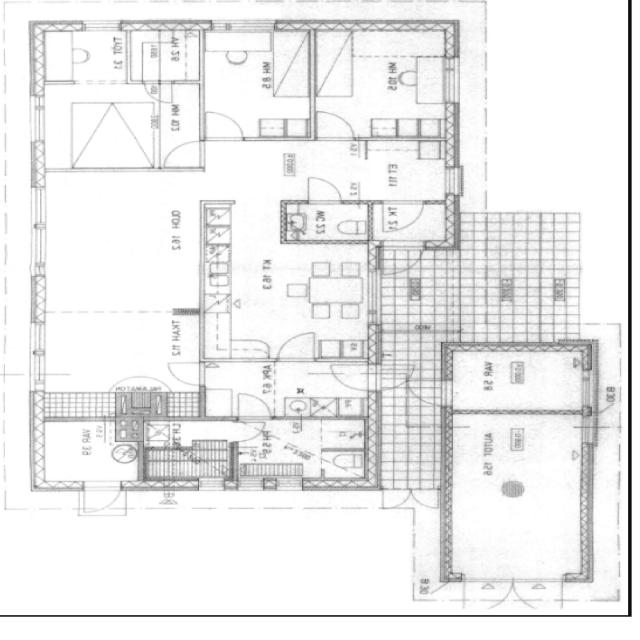door: (464, 574, 513, 618), (513, 574, 561, 618), (383, 240, 424, 279), (329, 365, 382, 392), (368, 365, 421, 392), (82, 482, 120, 517), (383, 200, 423, 232), (404, 381, 453, 407), (316, 111, 353, 141), (206, 111, 243, 141), (279, 334, 314, 362), (164, 142, 203, 166), (307, 177, 341, 204), (167, 364, 203, 386), (238, 396, 270, 420), (229, 423, 265, 443), (142, 81, 171, 104), (411, 487, 439, 510), (384, 487, 411, 510)
